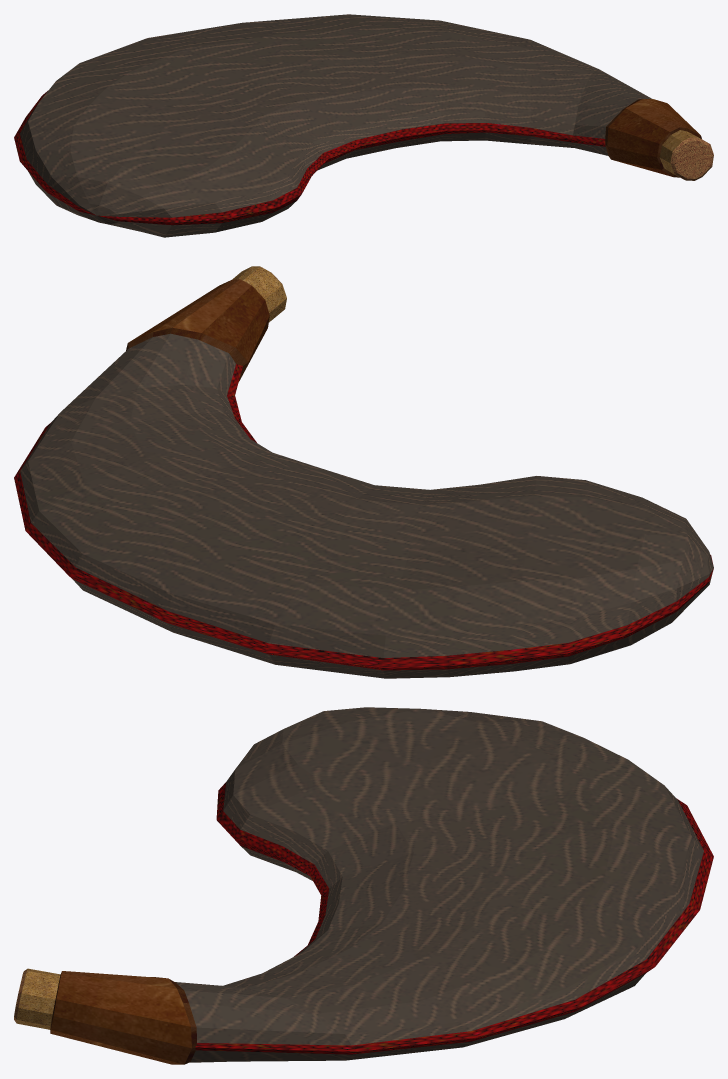
The model's file is WorldItem_QualityWaterskinEmpty.fbx.
3 renders of one model, top to bottom at view 1: azimuth 30°, elevation 25°; view 2: azimuth 150°, elevation 25°; view 3: azimuth 270°, elevation 25°, orthographic. The views are drawn at different scales.
Parts seen in each view (by area): view 1: ZomboidQualityWaterskin; view 2: ZomboidQualityWaterskin; view 3: ZomboidQualityWaterskin.
Boxes of the visible parts, x1=… form: ZomboidQualityWaterskin: x1=14, y1=14, x2=713, y2=237; ZomboidQualityWaterskin: x1=14, y1=266, x2=713, y2=678; ZomboidQualityWaterskin: x1=14, y1=707, x2=713, y2=1064.
Size of the model in its own units: 0.1997 by 0.0235 by 0.1798.
